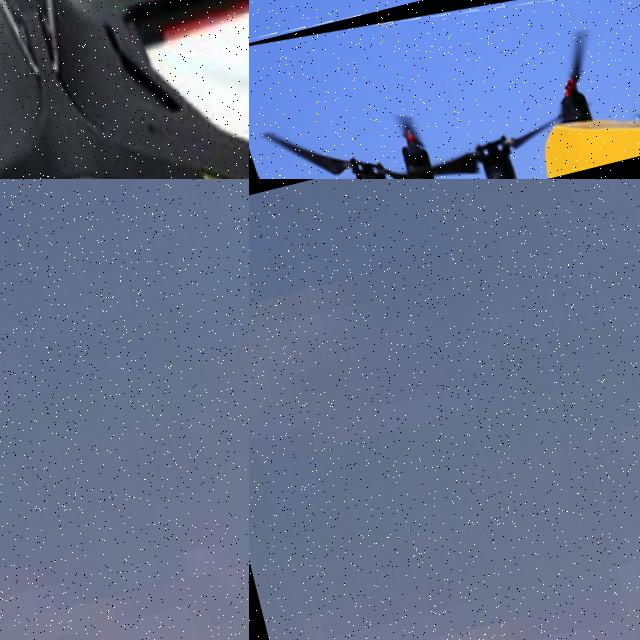drone: (249, 0, 640, 179), (0, 0, 249, 179)
